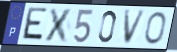0: (98, 9, 118, 44)
5: (72, 8, 96, 45)
E: (20, 6, 49, 43)
O: (144, 11, 168, 46)
V: (123, 10, 148, 47)
X: (43, 7, 75, 44)
